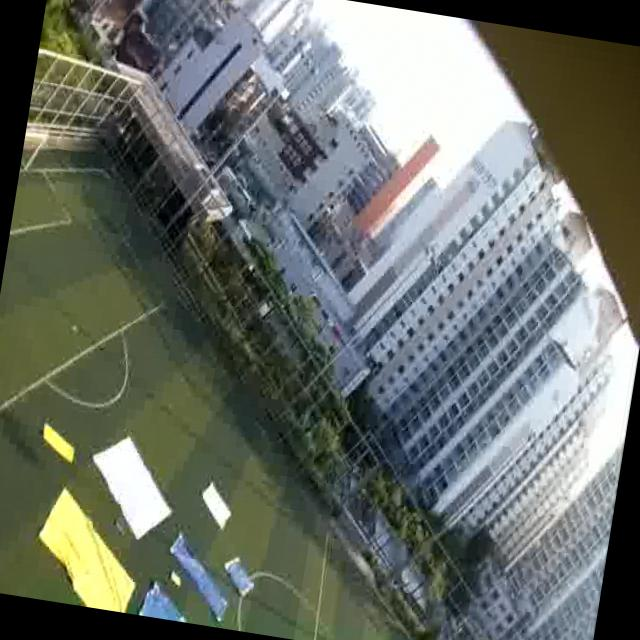danger: (217, 548, 263, 596), (140, 586, 198, 624), (164, 534, 214, 578)
safety: (98, 443, 174, 517), (190, 476, 244, 534)
warning: (39, 513, 125, 598), (38, 425, 82, 473)
